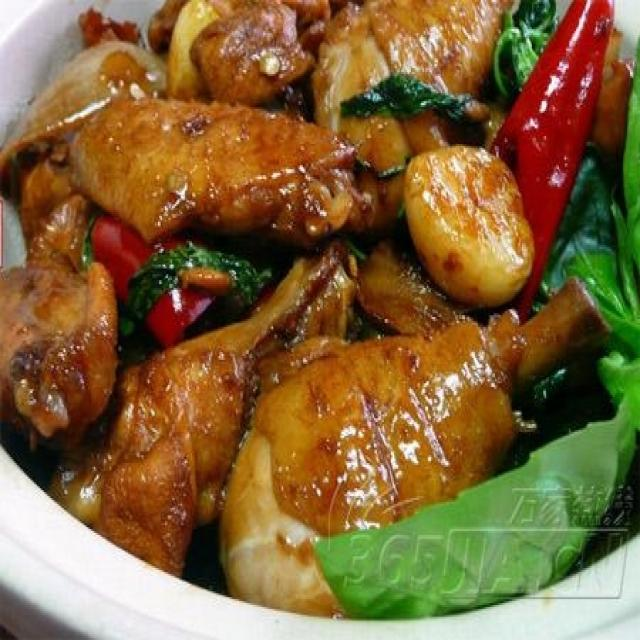鸡肉料理 含炸鸡: (26, 18, 608, 614)
